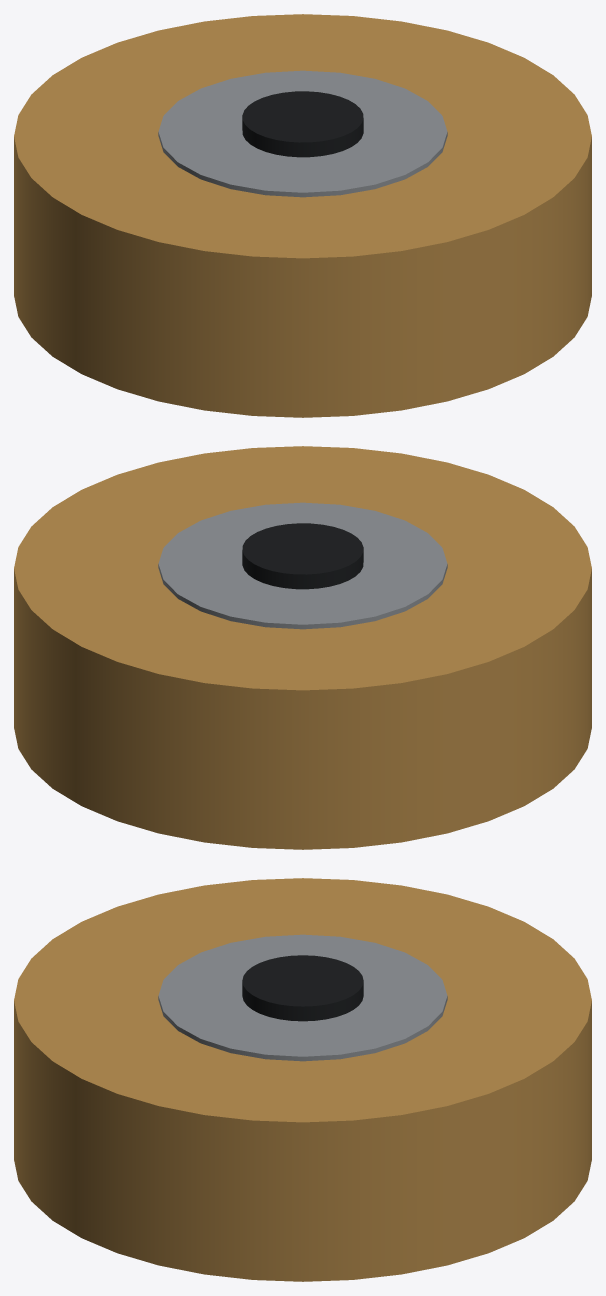
Rendered from drive_wheel.obj.
The picture shows the model from 3 angles, top to bottom: view 1: azimuth 30°, elevation 25°; view 2: azimuth 150°, elevation 25°; view 3: azimuth 270°, elevation 25°; orthographic projection.
Parts seen in each view (by area): view 1: drive_wheel_tyre, drive_wheel_hub, drive_wheel_axle_1; view 2: drive_wheel_tyre, drive_wheel_hub, drive_wheel_axle_1; view 3: drive_wheel_tyre, drive_wheel_hub, drive_wheel_axle_1.
Part boxes in pixels (bbox=[...]): drive_wheel_tyre: bbox=[14, 14, 591, 417]; drive_wheel_hub: bbox=[158, 70, 447, 197]; drive_wheel_axle_1: bbox=[242, 91, 363, 157]; drive_wheel_tyre: bbox=[14, 446, 591, 849]; drive_wheel_hub: bbox=[158, 502, 447, 629]; drive_wheel_axle_1: bbox=[242, 523, 363, 589]; drive_wheel_tyre: bbox=[14, 878, 591, 1281]; drive_wheel_hub: bbox=[158, 934, 447, 1061]; drive_wheel_axle_1: bbox=[242, 955, 363, 1021].
Bounding box in the file's own units: 0.23 × 0.087 × 0.23.
